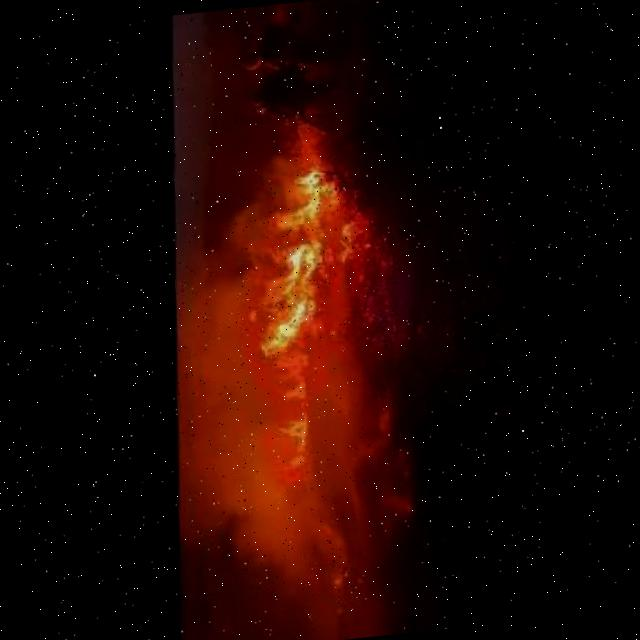fire: (233, 150, 360, 474), (328, 215, 356, 261)
